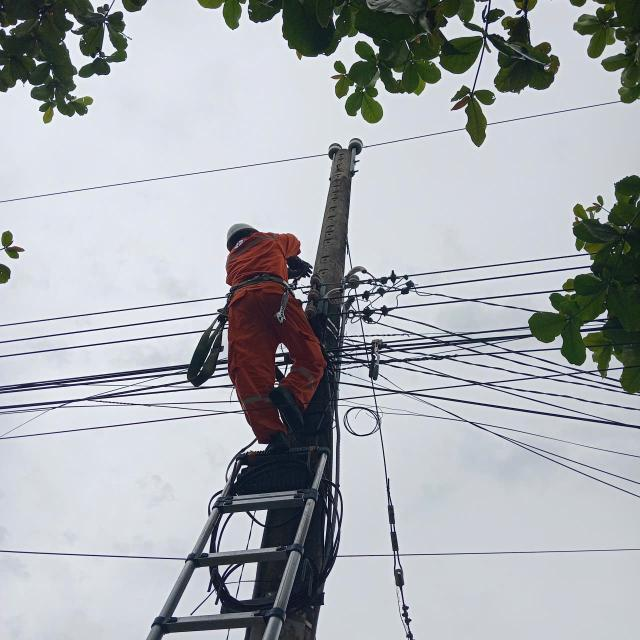gloves: (290, 252, 316, 286)
harness: (209, 271, 311, 301)
helmet: (217, 211, 261, 254)
shoes: (259, 385, 311, 430), (260, 427, 299, 464)
